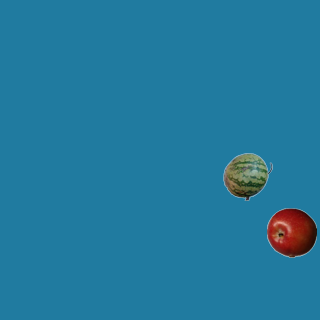Apple Braeburn: (266, 207, 316, 257)
Watermelon: (222, 151, 272, 201)
